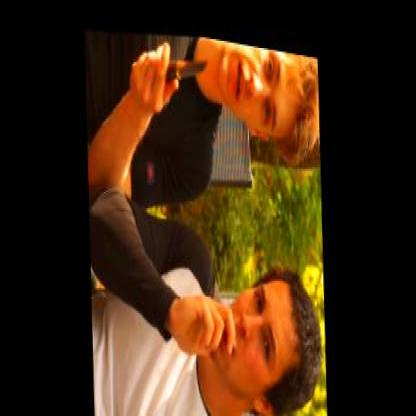knife: (141, 20, 218, 122)
